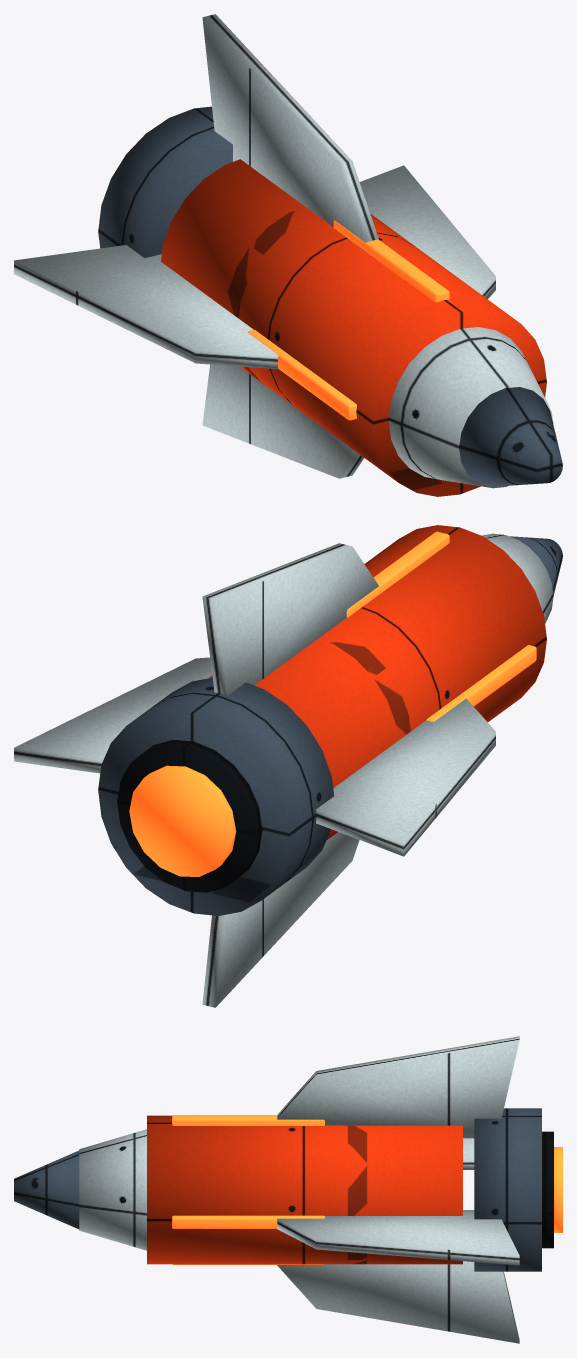
The model's file is rockets.glb.
3 renders of one model, top to bottom at view 1: azimuth 30°, elevation 25°; view 2: azimuth 150°, elevation 25°; view 3: azimuth 270°, elevation 25°, orthographic. The views are drawn at different scales.
Parts seen in each view (by area): view 1: rockets Ceramic, rockets rockets-enamel, rockets Titanium, rockets rockets-emitter; view 2: rockets Ceramic, rockets rockets-enamel, rockets Titanium, rockets rockets-emitter, rockets Graphite; view 3: rockets Ceramic, rockets rockets-enamel, rockets Titanium, rockets rockets-emitter, rockets Graphite.
Boxes of the visible parts, <box> form: rockets Ceramic: <box>14,14,553,488</box>; rockets rockets-enamel: <box>161,159,546,496</box>; rockets Titanium: <box>98,106,562,486</box>; rockets rockets-emitter: <box>247,220,449,420</box>; rockets Ceramic: <box>14,533,553,1007</box>; rockets rockets-enamel: <box>209,525,546,839</box>; rockets Titanium: <box>98,536,562,915</box>; rockets rockets-emitter: <box>129,531,536,876</box>; rockets Graphite: <box>117,740,262,892</box>; rockets Ceramic: <box>79,1036,519,1343</box>; rockets rockets-enamel: <box>147,1115,462,1264</box>; rockets Titanium: <box>14,1108,541,1271</box>; rockets rockets-emitter: <box>172,1115,562,1264</box>; rockets Graphite: <box>542,1131,553,1248</box>.
Size of the model in its own units: 1.48 by 1.48 by 2.43.
5 materials, 4 textured.
